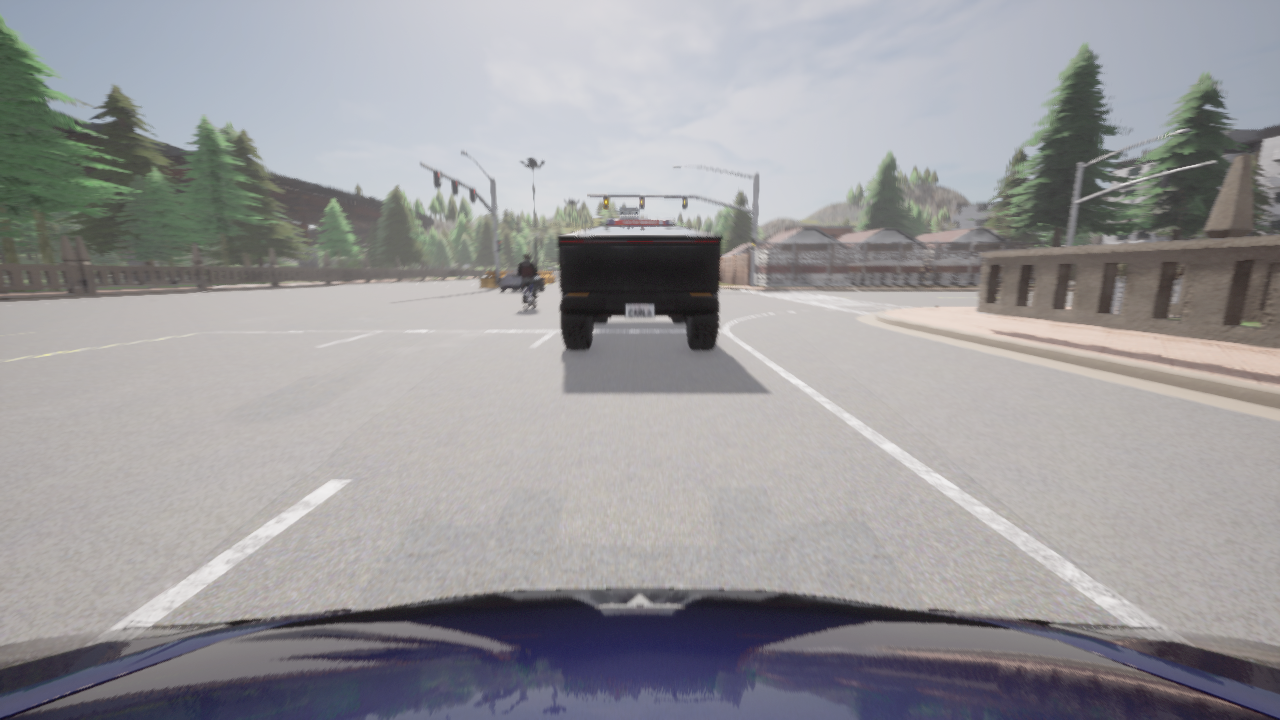cyclist: (0, 588, 1279, 719), (558, 226, 721, 349), (606, 207, 673, 225), (498, 269, 543, 292), (523, 285, 536, 310)
pedestrian: (1178, 265, 1184, 279)
